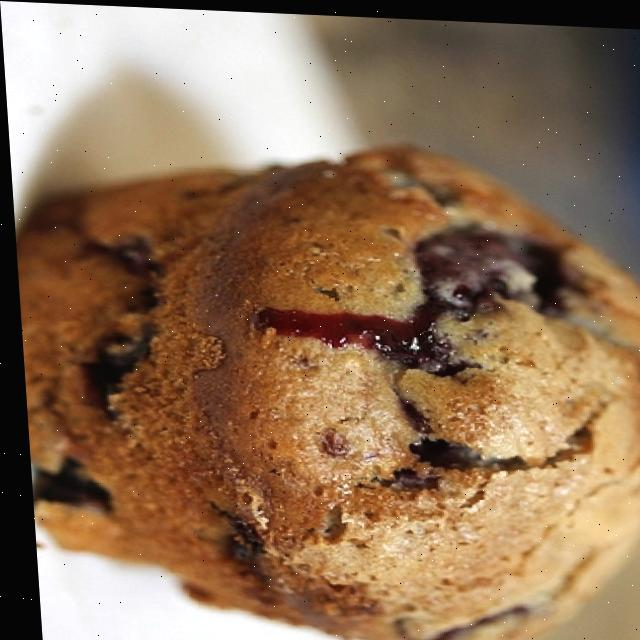炸货点心: (6, 121, 640, 640)
面包点心: (6, 121, 640, 640)
